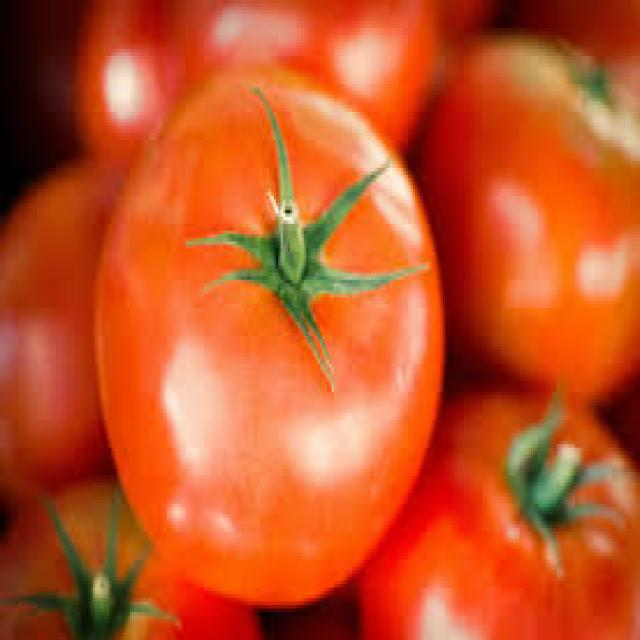Tomato: (83, 56, 436, 566)
